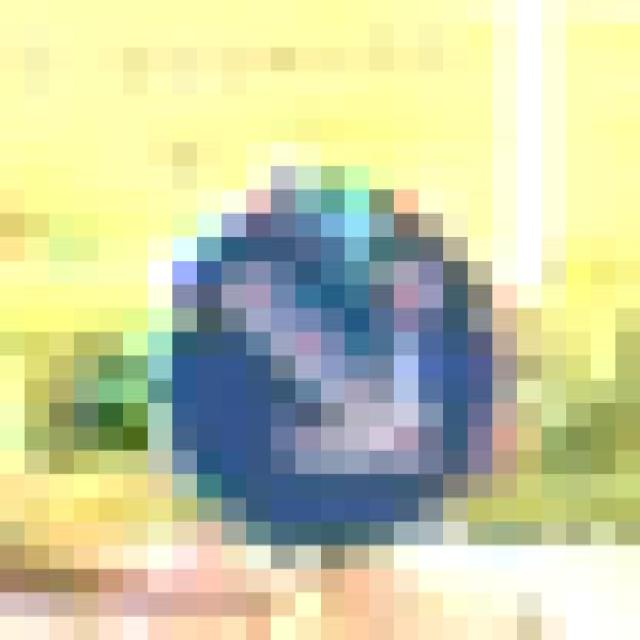Keep-Right: (74, 166, 566, 569)
